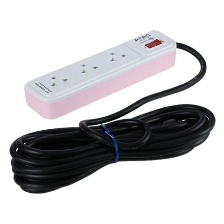three_eye_plug: (21, 26, 180, 122)
